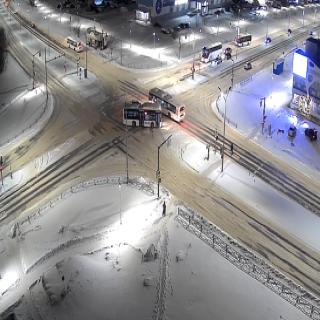large-vehicle: (149, 88, 185, 124), (124, 103, 162, 131), (203, 43, 222, 63), (67, 36, 83, 52), (236, 36, 252, 47)
small-vehicle: (304, 126, 318, 143), (288, 125, 296, 138), (180, 22, 190, 31), (162, 27, 170, 38), (214, 55, 222, 65), (244, 61, 252, 70), (225, 46, 232, 54), (266, 37, 271, 45), (31, 22, 36, 29), (224, 54, 231, 59), (287, 28, 292, 34), (263, 6, 268, 10)
